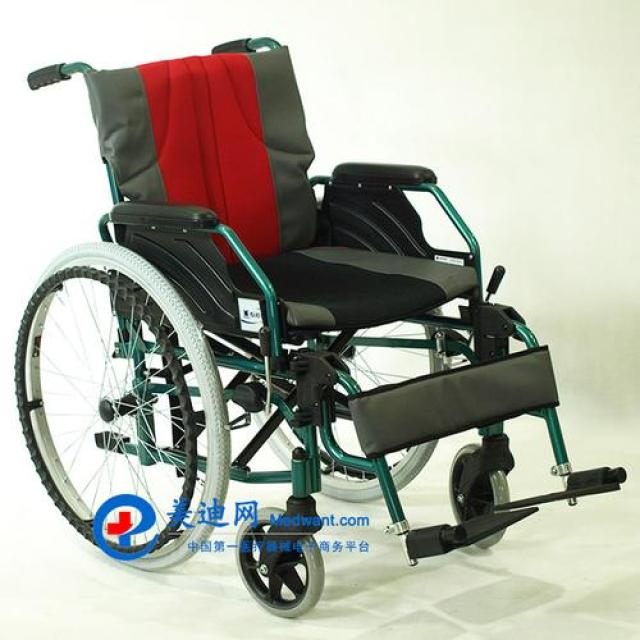wheelchairs: (6, 40, 626, 626)
